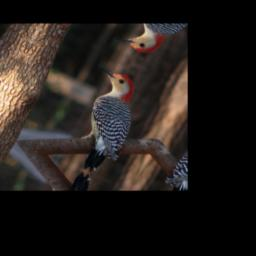Woodpecker: (48, 63, 158, 177)
